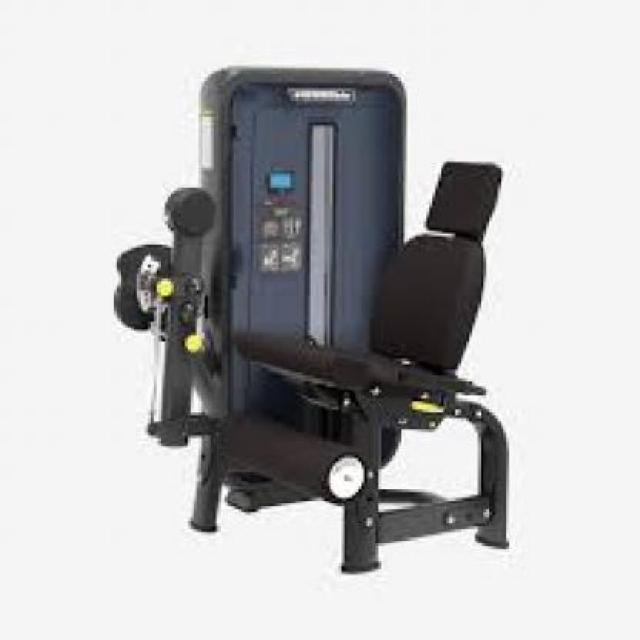leg extension: (100, 54, 537, 588)
